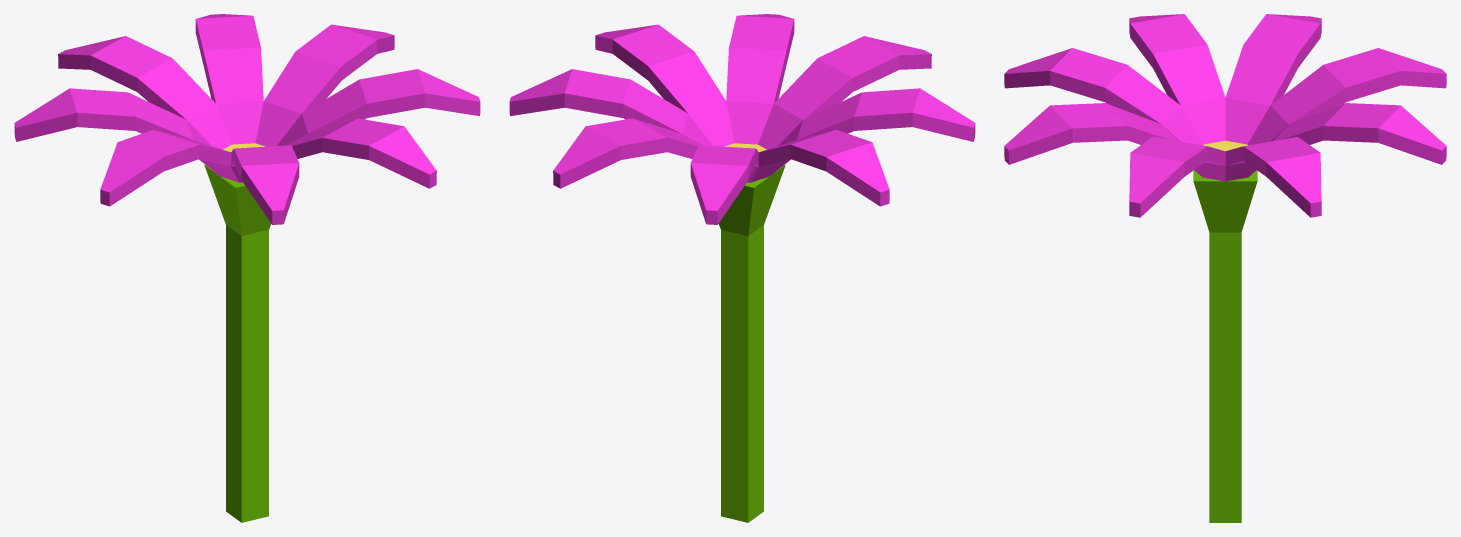
Rendered from Flower_M.fbx.
3 renders of one model, left to right at view 1: azimuth 30°, elevation 25°; view 2: azimuth 150°, elevation 25°; view 3: azimuth 270°, elevation 25°, orthographic.
Parts seen in each view (by area): view 1: Flower_01_Bloom; view 2: Flower_01_Bloom; view 3: Flower_01_Bloom.
Boxes of the visible parts, x1,y1,x2,y2 form: Flower_01_Bloom: [14, 14, 480, 522]; Flower_01_Bloom: [509, 14, 975, 522]; Flower_01_Bloom: [1004, 14, 1446, 522].
Size of the model in its own units: 16.58 by 17.7 by 16.58.
1 material, 1 textured.
